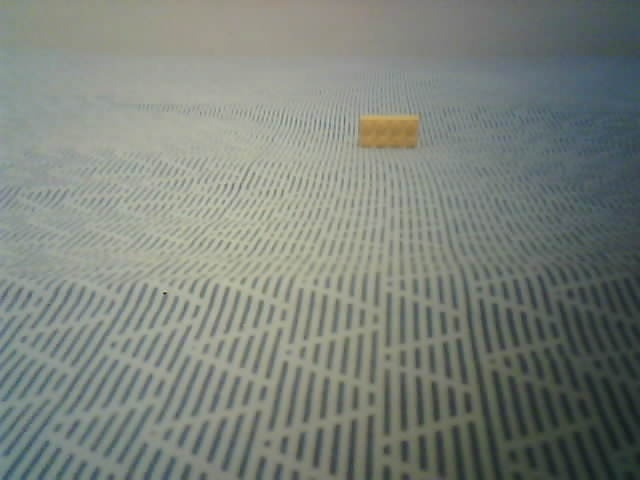lego: (357, 113, 419, 150)
